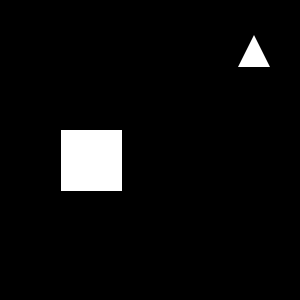circle: (61, 130, 122, 191)
triangle: (238, 35, 270, 67)
